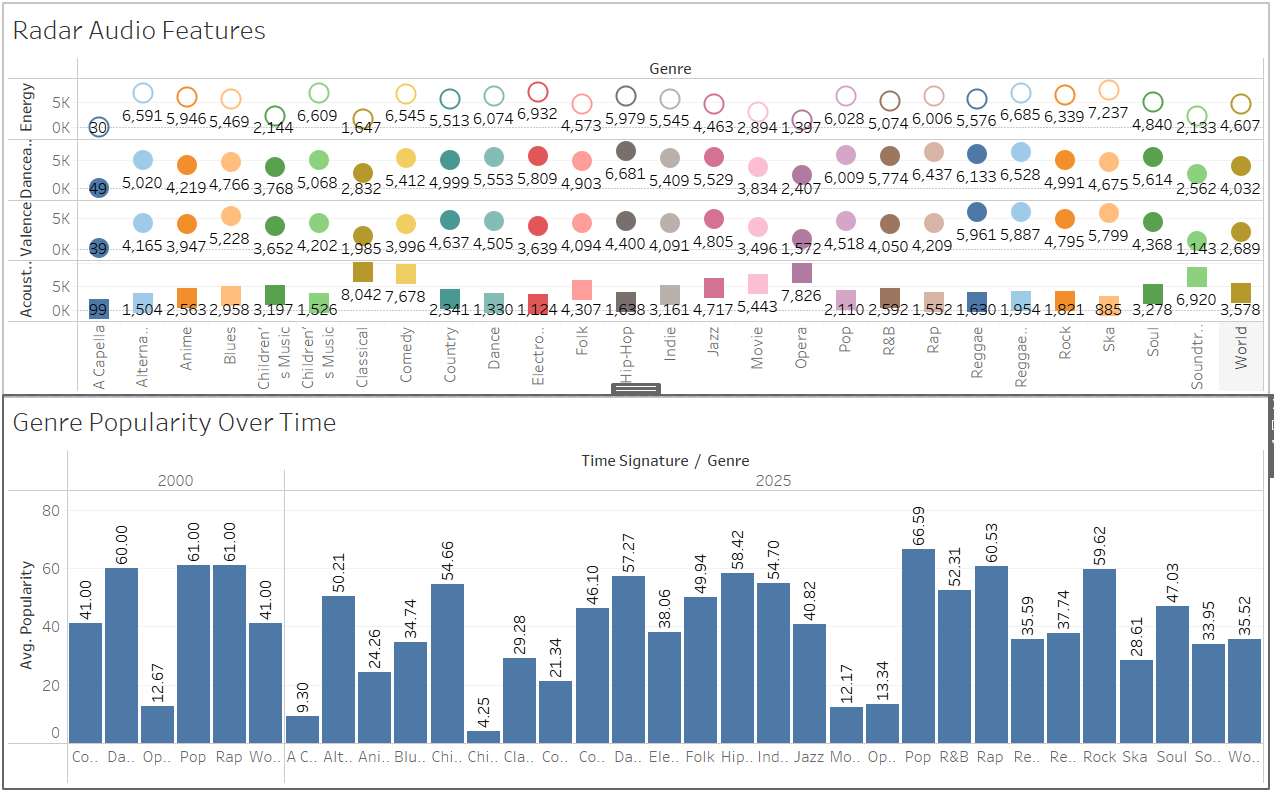

Layout of this report page (visuals, bound fields, positions):
{"tool":"tableau","page":{"name":"Genre Insights: Audio Features & Popularity Trends","canvas":[1280,800],"ordinal":1},"visuals":[{"type":"worksheet","title":"Radar Audio Features","mark":"Automatic","rows":["energy","danceability","valence","acousticness"],"cols":["genre"],"box":[8,8,1264,392]},{"type":"worksheet","title":"Genre Popularity Over Time","mark":"Automatic","rows":["popularity"],"cols":["time_signature","genre"],"box":[8,400,1264,392]}]}

Visuals, with their boxes in screenshot pixels (x1, y1, x2, y2), scaled from the page's 1280x800 canvas onto the 1274x795 screenshot:
"Radar Audio Features" worksheet: [8, 8, 1266, 398]
"Genre Popularity Over Time" worksheet: [8, 398, 1266, 787]
